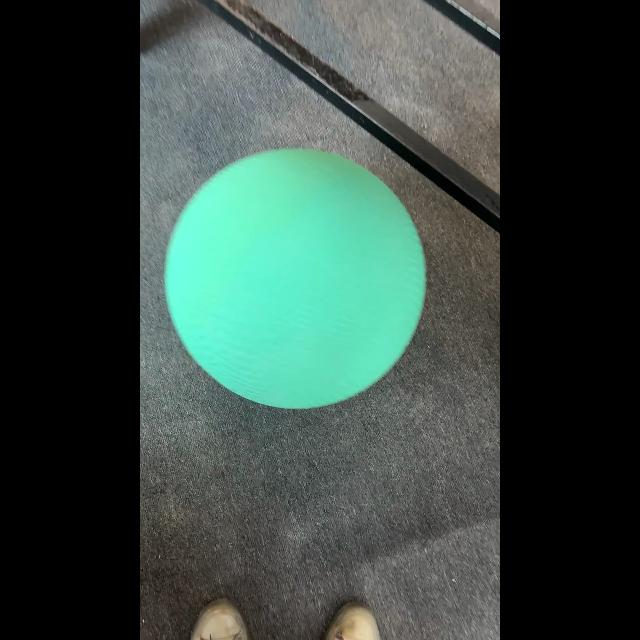ALGAE: (162, 147, 428, 410)
